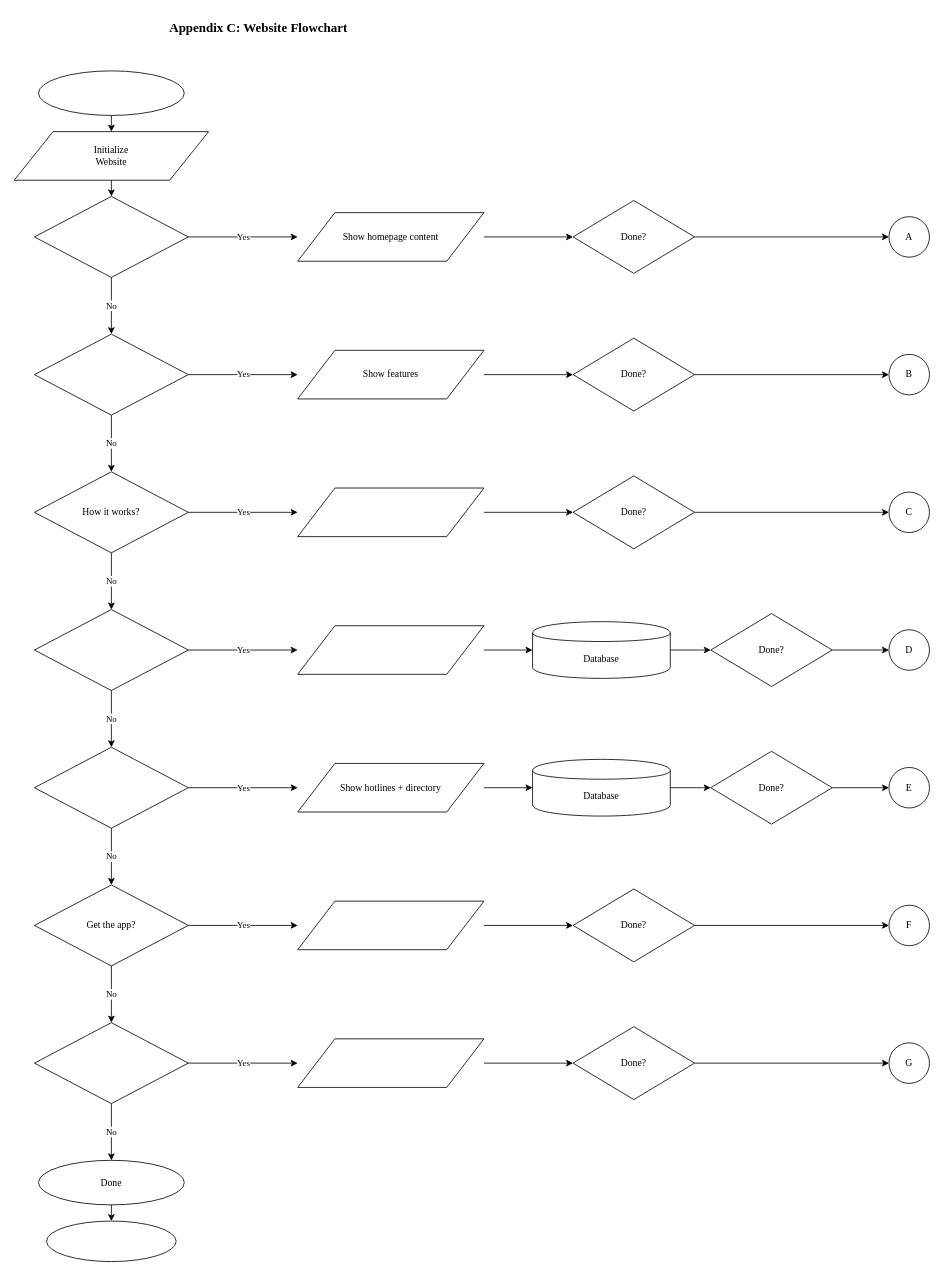
Image size: 944x1276. Some labels were removed from this diagram. Each missing label, with the centre of its shape:
"Community updates?" belongs at pixel 111 650.
"End" belongs at pixel 111 1241.
"FAQs?" belongs at pixel 111 1063.
"Features?" belongs at pixel 111 374.
"Homepage?" belongs at pixel 111 236.
"Hotlines + Directory?" belongs at pixel 111 787.
"Show advisories" belongs at pixel 390 649.
"Show app link" belongs at pixel 390 925.
"Show FAQs" belongs at pixel 390 1062.
"Show steps" belongs at pixel 390 512.
"Start" belongs at pixel 111 92.
